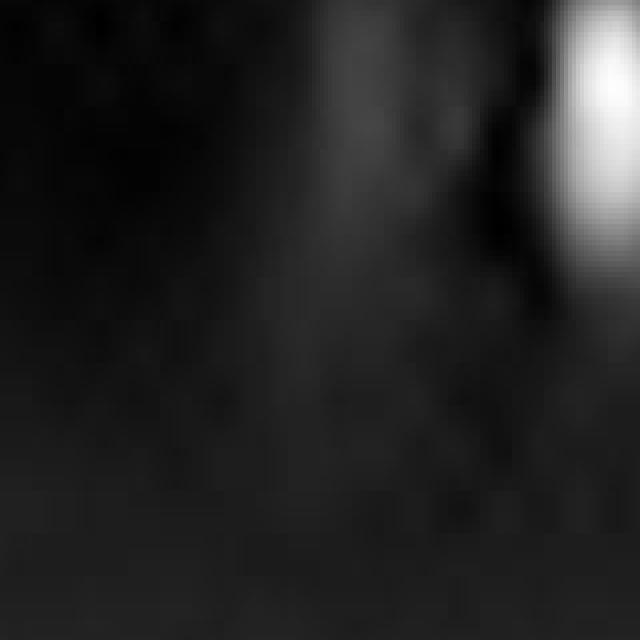person: (301, 1, 481, 337), (565, 1, 640, 353)
